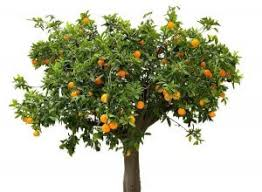orange: (136, 100, 144, 110), (133, 50, 141, 58)
